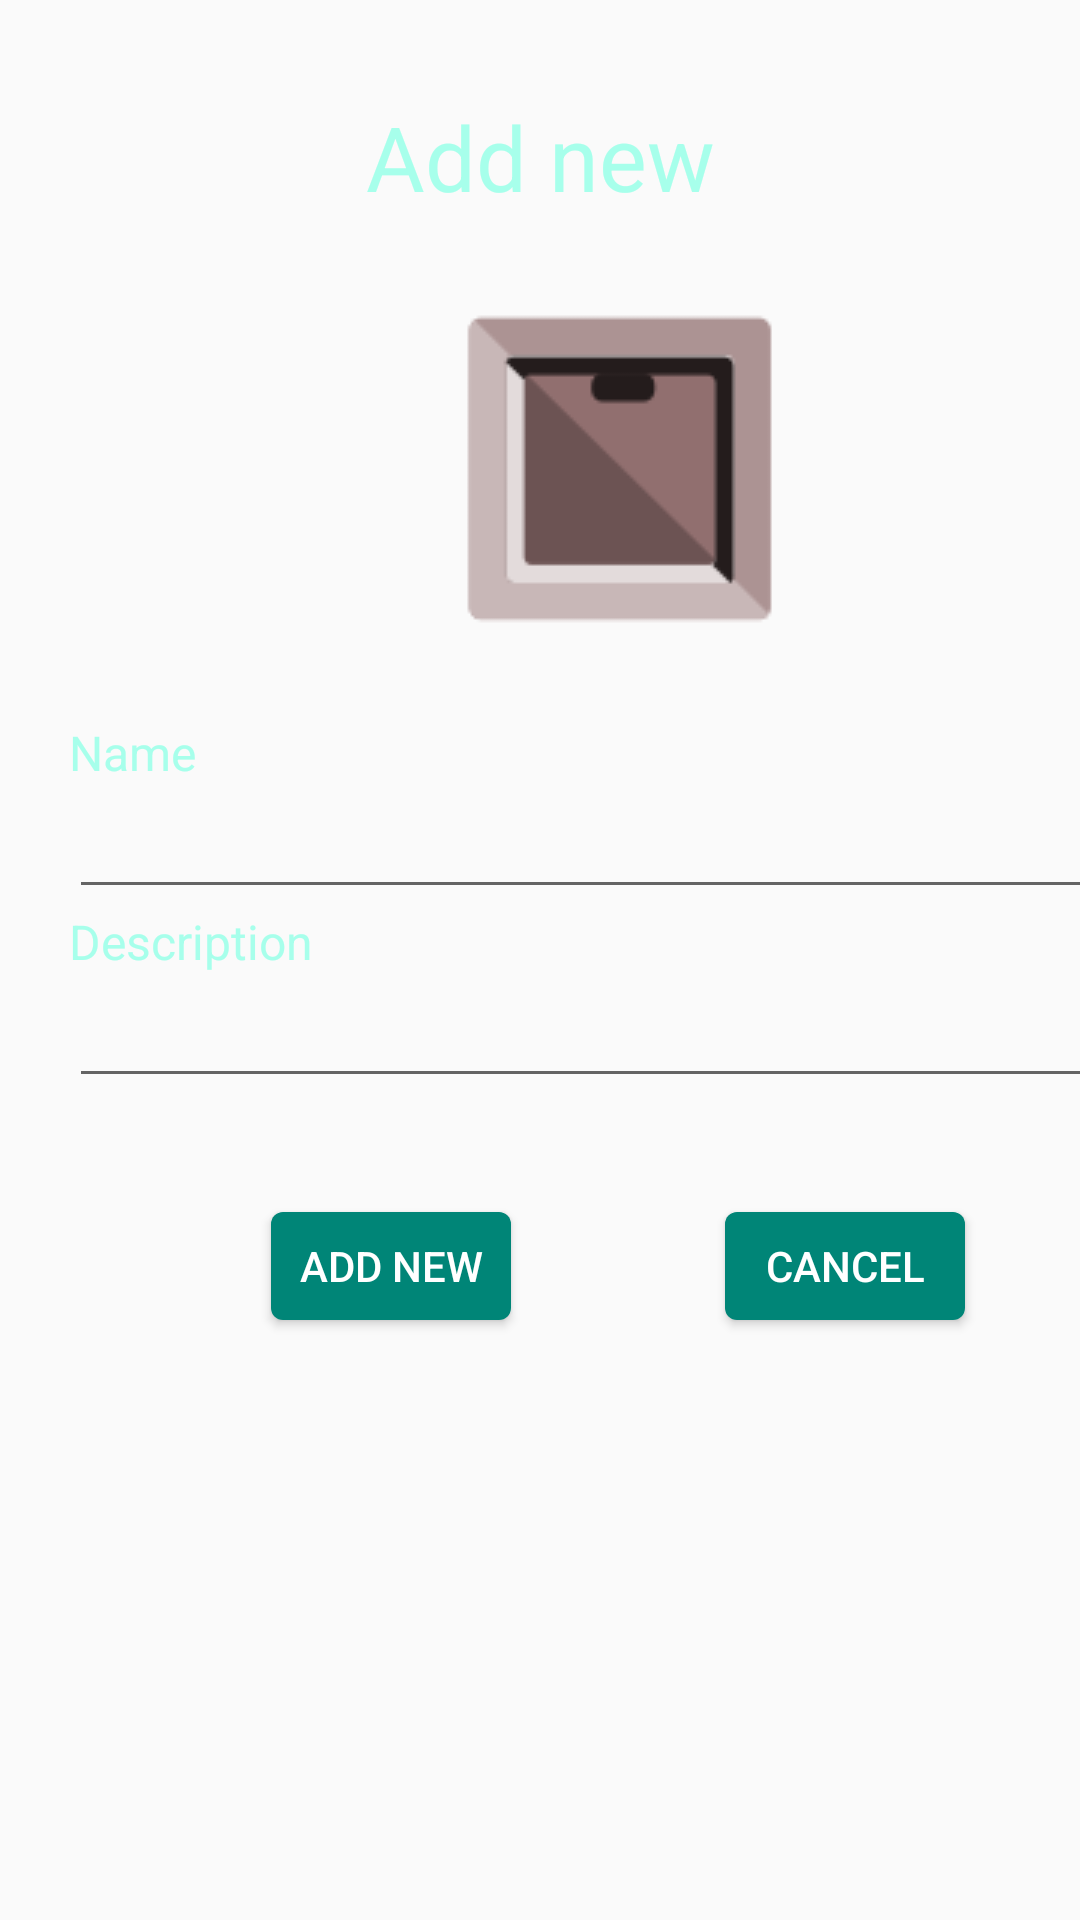

Screen size 1080px×1920px. Icon name, then its box in pixels as (x1, y1, x2, y2):
box: (468, 317, 772, 620)
